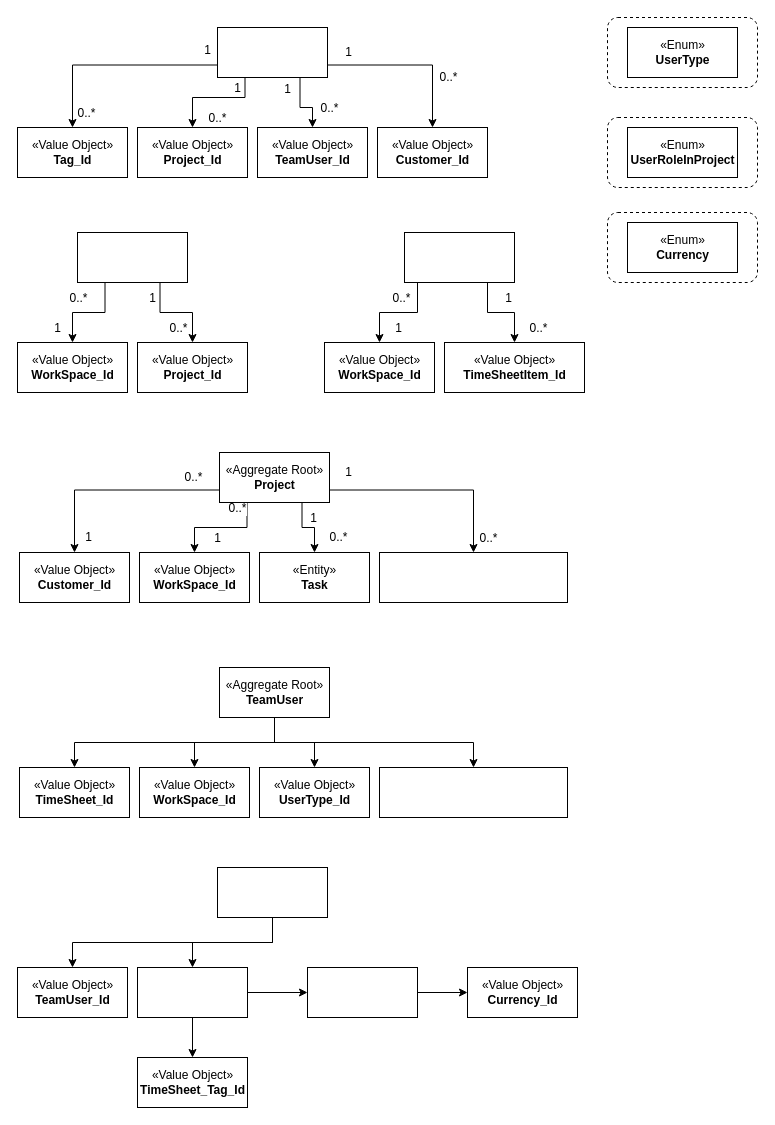
Some shapes in this 775 by 1125 pixel diagram are drawn without their labels. The centre of each missing label's shape, as x and y in pixels:
"«Aggregate Root» Customer" goes at (132,257).
"«Aggregate Root» Tag" goes at (459,257).
"«Aggregate Root» TimeSheet" goes at (272,892).
"«Aggregate Root» WorkSpace" goes at (272,52).
"«Entity» TimeSheet_Tag_Id" goes at (362,992).
"«Entity» TimeSheetItem" goes at (192,992).
"«Value Object» Project_User_RoleInProject_Id" goes at (473,792).
"«Value Object» User_RoleInProject_Id" goes at (473,577).
